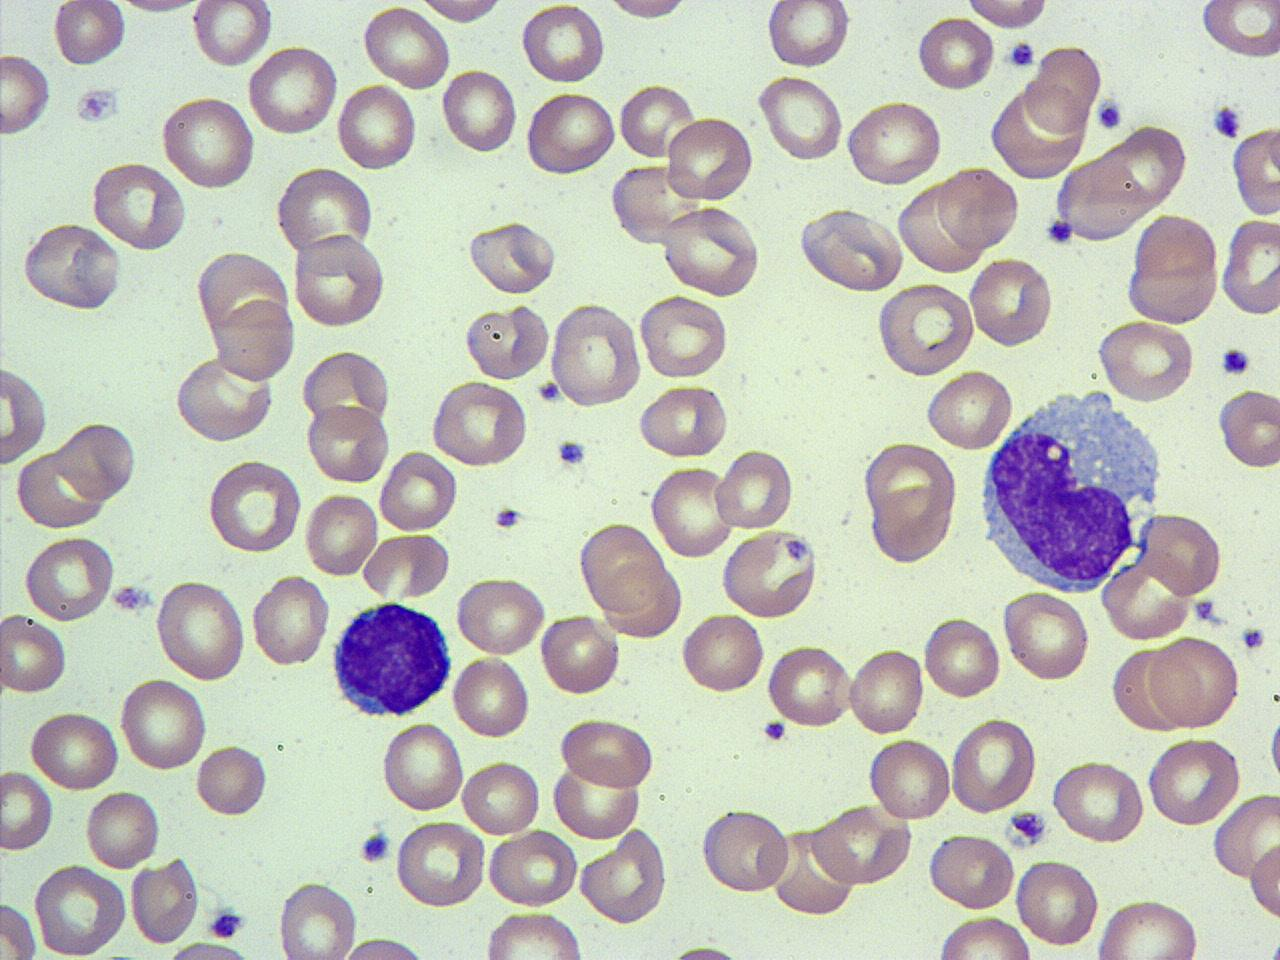Platelets: (72, 85, 120, 128), (665, 940, 750, 960), (1006, 806, 1048, 846), (108, 582, 154, 614), (207, 905, 248, 940), (358, 828, 392, 866), (1210, 102, 1242, 142), (1218, 346, 1252, 378), (1094, 96, 1124, 132), (554, 437, 588, 468), (1006, 39, 1038, 70), (1044, 217, 1074, 246), (492, 506, 524, 532), (1190, 596, 1218, 624), (1240, 624, 1268, 652), (760, 718, 788, 742), (536, 380, 563, 403), (1266, 938, 1280, 960)
RBC: (862, 440, 959, 566), (548, 302, 643, 410), (658, 202, 762, 298), (154, 576, 248, 682), (876, 279, 976, 377), (206, 456, 304, 556), (31, 860, 130, 957), (20, 220, 123, 313), (159, 94, 257, 191), (720, 526, 821, 620), (291, 233, 388, 330), (578, 824, 670, 926), (273, 164, 376, 255), (1143, 735, 1243, 828), (117, 674, 210, 774), (797, 207, 905, 293), (948, 714, 1039, 816), (844, 98, 946, 189), (87, 160, 188, 251), (647, 462, 737, 564), (21, 532, 118, 626), (1146, 634, 1240, 730), (429, 378, 529, 468), (176, 356, 278, 444), (1095, 318, 1199, 404), (245, 42, 339, 137), (1124, 238, 1222, 328), (1012, 854, 1102, 951), (1001, 588, 1091, 684), (1049, 758, 1147, 846), (755, 72, 847, 164), (394, 820, 487, 911), (576, 518, 666, 612), (699, 806, 793, 896), (299, 345, 394, 434), (1052, 152, 1148, 240), (967, 254, 1054, 350), (662, 115, 754, 205), (637, 292, 731, 380), (380, 719, 465, 816), (361, 3, 452, 93), (524, 90, 618, 177), (250, 570, 332, 669), (334, 79, 419, 174), (1099, 558, 1195, 642), (924, 366, 1016, 453), (27, 708, 122, 792), (15, 444, 107, 530), (1097, 124, 1191, 208), (452, 576, 549, 657), (1138, 509, 1226, 598), (765, 642, 853, 731), (864, 735, 953, 823), (211, 295, 297, 386), (551, 760, 647, 841), (846, 643, 926, 740), (558, 714, 657, 792), (484, 829, 580, 908), (636, 382, 732, 461), (538, 610, 622, 700), (678, 611, 766, 696), (1022, 44, 1102, 137), (927, 830, 1017, 912), (922, 612, 1002, 704), (1091, 895, 1203, 960), (304, 404, 392, 486), (518, 3, 606, 85), (462, 304, 554, 382), (302, 488, 380, 580), (466, 218, 559, 295), (936, 165, 1020, 250), (55, 419, 141, 502), (714, 445, 796, 532), (82, 786, 163, 873), (1110, 644, 1186, 736), (440, 67, 519, 155), (450, 654, 530, 740), (378, 448, 459, 532), (276, 879, 359, 960), (914, 13, 997, 94), (1210, 788, 1278, 886), (460, 758, 543, 838), (129, 854, 200, 946), (766, 0, 853, 71), (616, 83, 694, 162), (1132, 213, 1220, 283), (361, 533, 451, 601), (1219, 214, 1279, 316), (189, 0, 275, 70), (0, 610, 70, 696), (195, 743, 270, 819), (1215, 384, 1279, 470), (596, 561, 680, 626), (0, 358, 49, 469), (480, 908, 588, 958), (50, 0, 128, 69), (1197, 0, 1280, 61), (0, 767, 56, 853), (1230, 122, 1280, 217), (0, 51, 53, 140), (932, 912, 1033, 958), (323, 934, 437, 960), (961, 0, 1051, 31), (1247, 837, 1279, 923), (415, 0, 511, 26), (602, 0, 694, 25), (0, 898, 38, 958), (165, 938, 259, 960)
WBC: (972, 383, 1168, 592), (326, 596, 459, 720)
